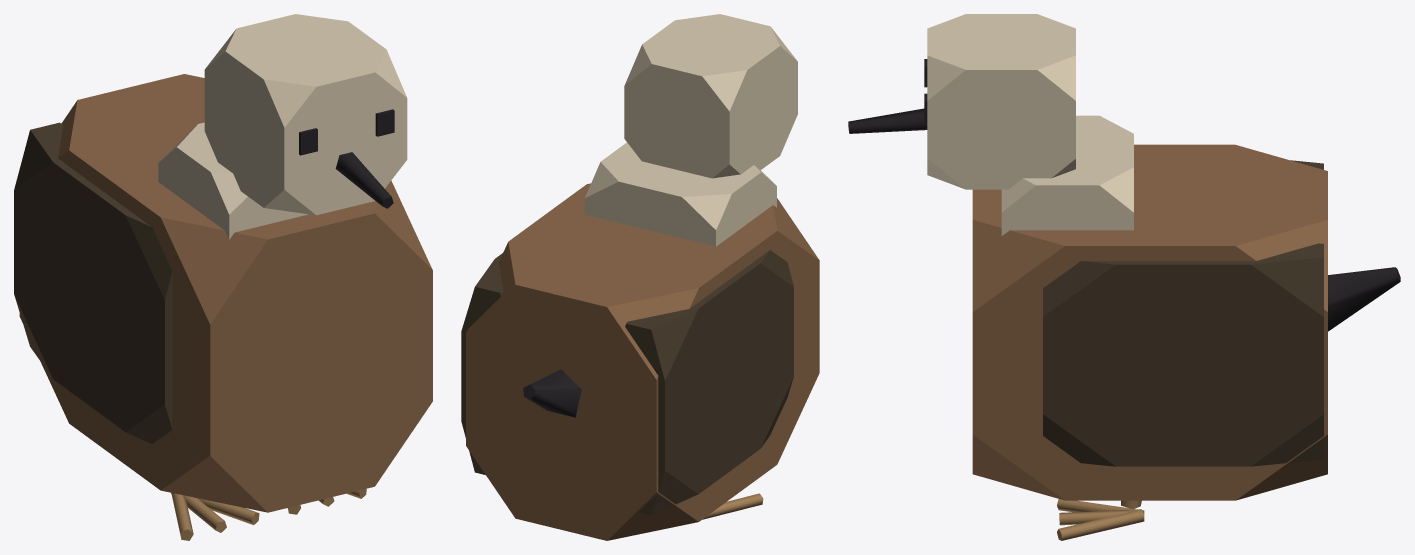
The model's file is original-vulture.glb.
The picture shows the model from 3 angles, left to right: view 1: azimuth 30°, elevation 25°; view 2: azimuth 150°, elevation 25°; view 3: azimuth 270°, elevation 25°; orthographic projection. The views are drawn at different scales.
Parts seen in each view (by area): view 1: vulture; view 2: vulture; view 3: vulture.
Part boxes in pixels (x1,y1,x2,y2): vulture: (14,14,432,540); vulture: (461,14,819,540); vulture: (848,14,1400,540).
Bounding box in the file's own units: 0.6201 × 1.23 × 1.34.
